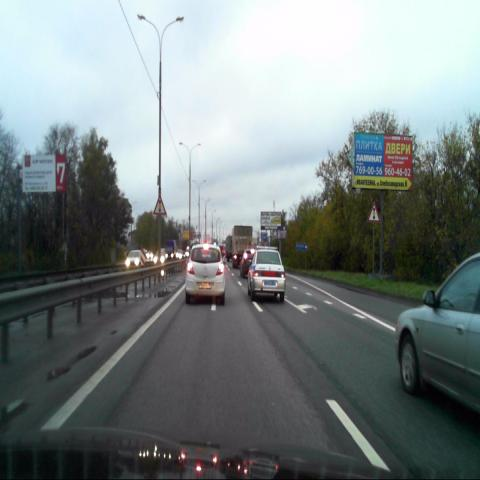1_8: (367, 200, 380, 222), (153, 195, 166, 215)
